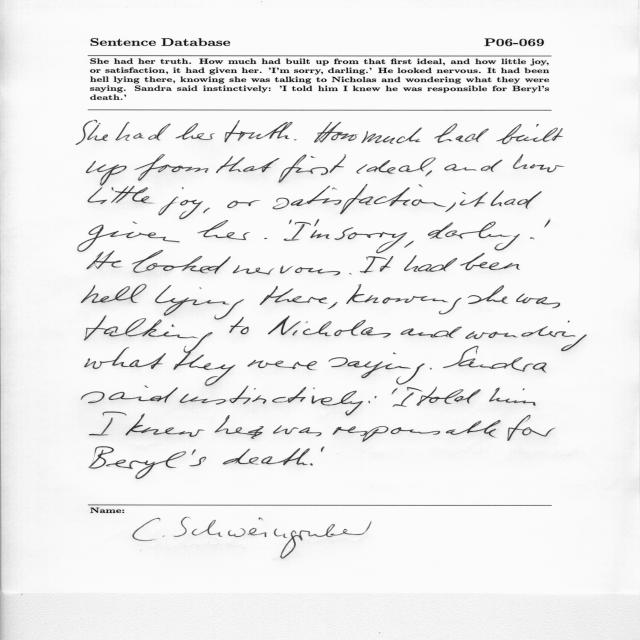word: (180, 386, 363, 416), (273, 184, 446, 214), (89, 446, 206, 479), (333, 420, 501, 442), (465, 321, 587, 351), (346, 284, 462, 314), (85, 315, 213, 341), (329, 352, 425, 385), (78, 221, 180, 252), (155, 285, 244, 320), (443, 346, 547, 373), (174, 341, 236, 385), (268, 316, 391, 338), (132, 250, 231, 274), (445, 222, 520, 251), (134, 154, 209, 181), (279, 154, 346, 183), (334, 228, 407, 254), (126, 414, 205, 437), (84, 347, 166, 369), (360, 241, 413, 273), (81, 386, 178, 403), (223, 448, 313, 466), (225, 121, 293, 143), (158, 187, 203, 219), (356, 157, 436, 174), (496, 124, 563, 144), (260, 286, 328, 305), (507, 415, 556, 441), (81, 284, 147, 303), (416, 387, 481, 406), (88, 186, 154, 204), (233, 265, 340, 276), (215, 415, 264, 439), (434, 123, 489, 143), (216, 156, 279, 173), (197, 220, 250, 240), (116, 122, 171, 141), (361, 127, 422, 144), (86, 161, 127, 186), (460, 253, 520, 270), (513, 155, 565, 173), (314, 122, 358, 143), (491, 191, 542, 209), (404, 255, 457, 272), (90, 412, 127, 435), (489, 388, 536, 406), (76, 120, 108, 145), (468, 285, 508, 304), (445, 159, 503, 172), (247, 360, 317, 370), (400, 327, 462, 338), (87, 251, 122, 270), (176, 123, 215, 140), (516, 294, 560, 309), (393, 387, 423, 407), (273, 426, 322, 437), (284, 222, 311, 241), (428, 222, 453, 239), (446, 192, 467, 212), (460, 192, 488, 207), (310, 219, 329, 239), (229, 317, 249, 334), (227, 200, 260, 208), (328, 302, 338, 309), (368, 396, 377, 403), (545, 220, 551, 228), (426, 171, 432, 177), (392, 388, 398, 394), (203, 208, 210, 213), (321, 446, 324, 452), (289, 219, 292, 224), (530, 237, 534, 239), (294, 139, 297, 141), (264, 238, 268, 239), (430, 368, 432, 370), (349, 273, 352, 274)
